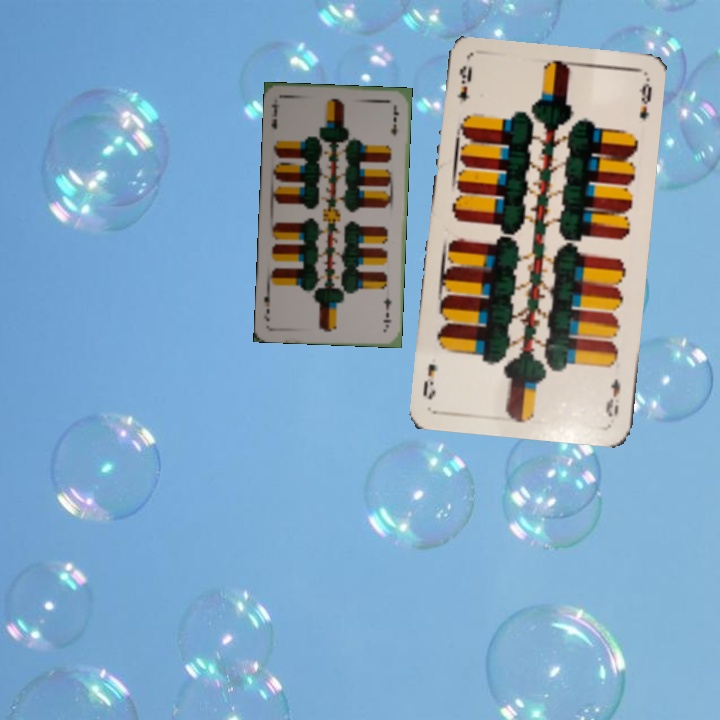E7: (379, 294, 394, 330), (267, 100, 282, 131)
E9: (601, 374, 623, 419), (453, 62, 474, 104)
